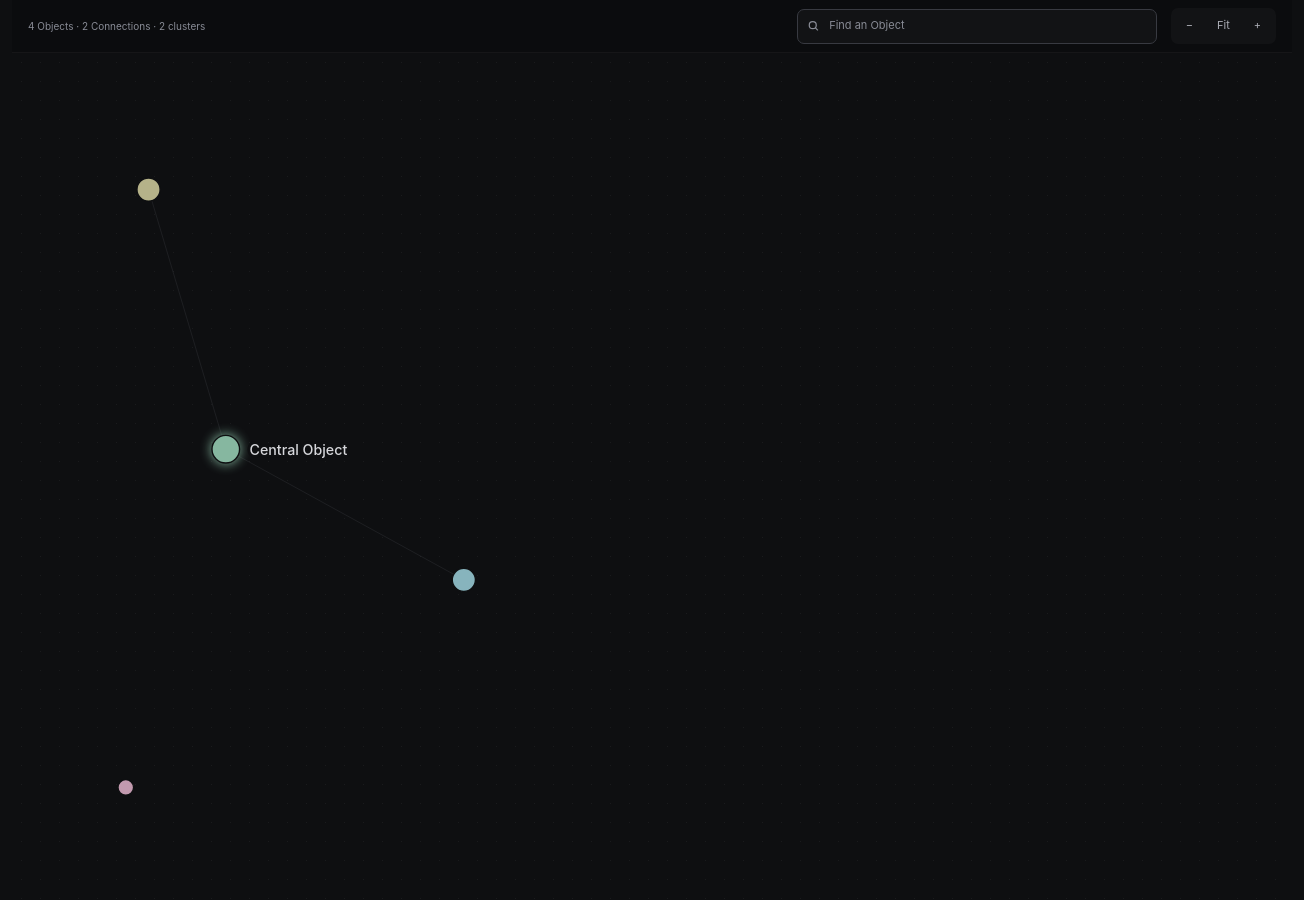
Test case: Connections graph workspace › loads one compact graph and focuses searched Objects
Type "Central" into the field named "Search graph Objects".
click(987, 26); type("Central")  # box left=827, top=17, right=1147, bottom=35
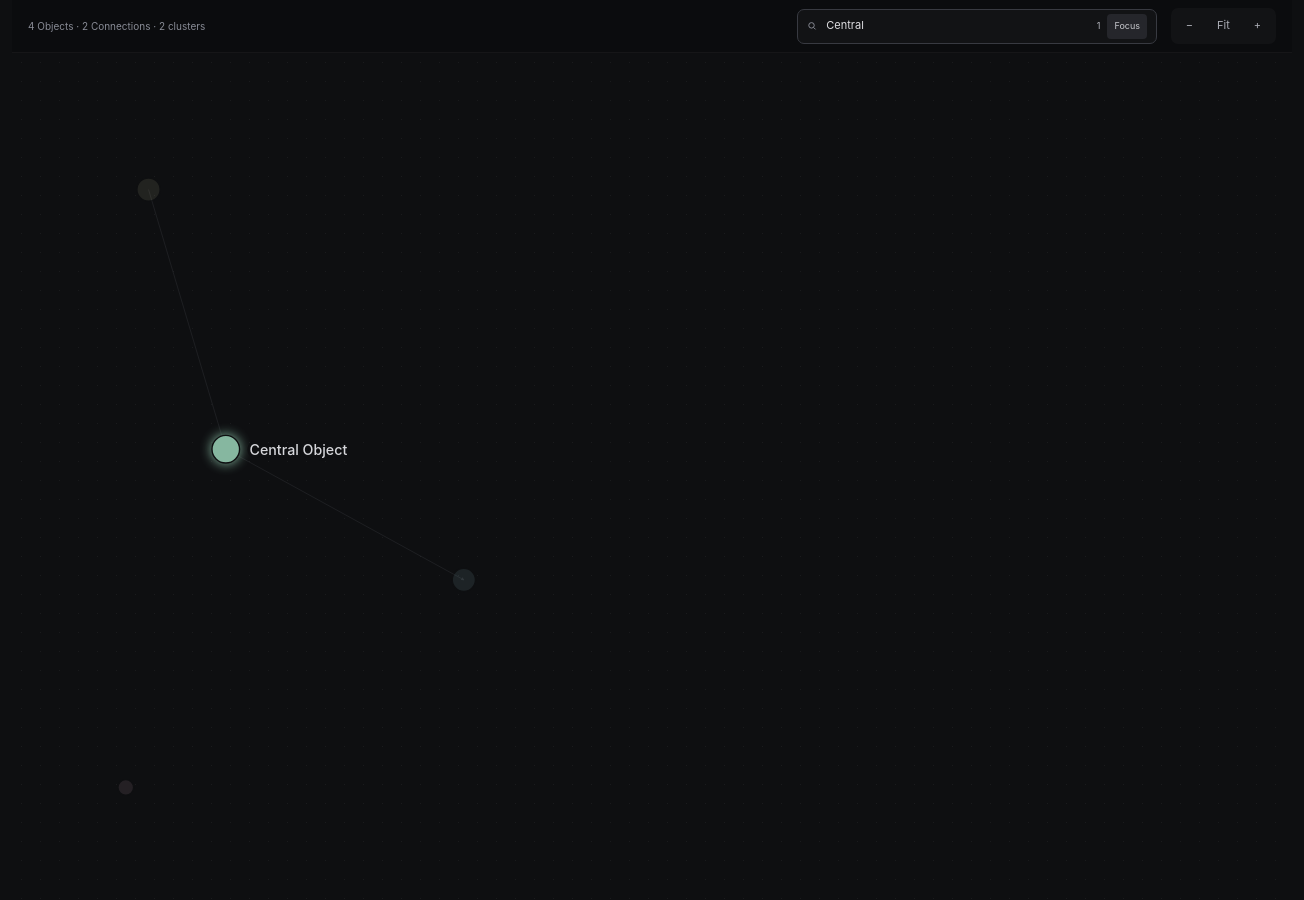
Click the button "Focus".
click(1127, 26)  # box left=1107, top=14, right=1147, bottom=38
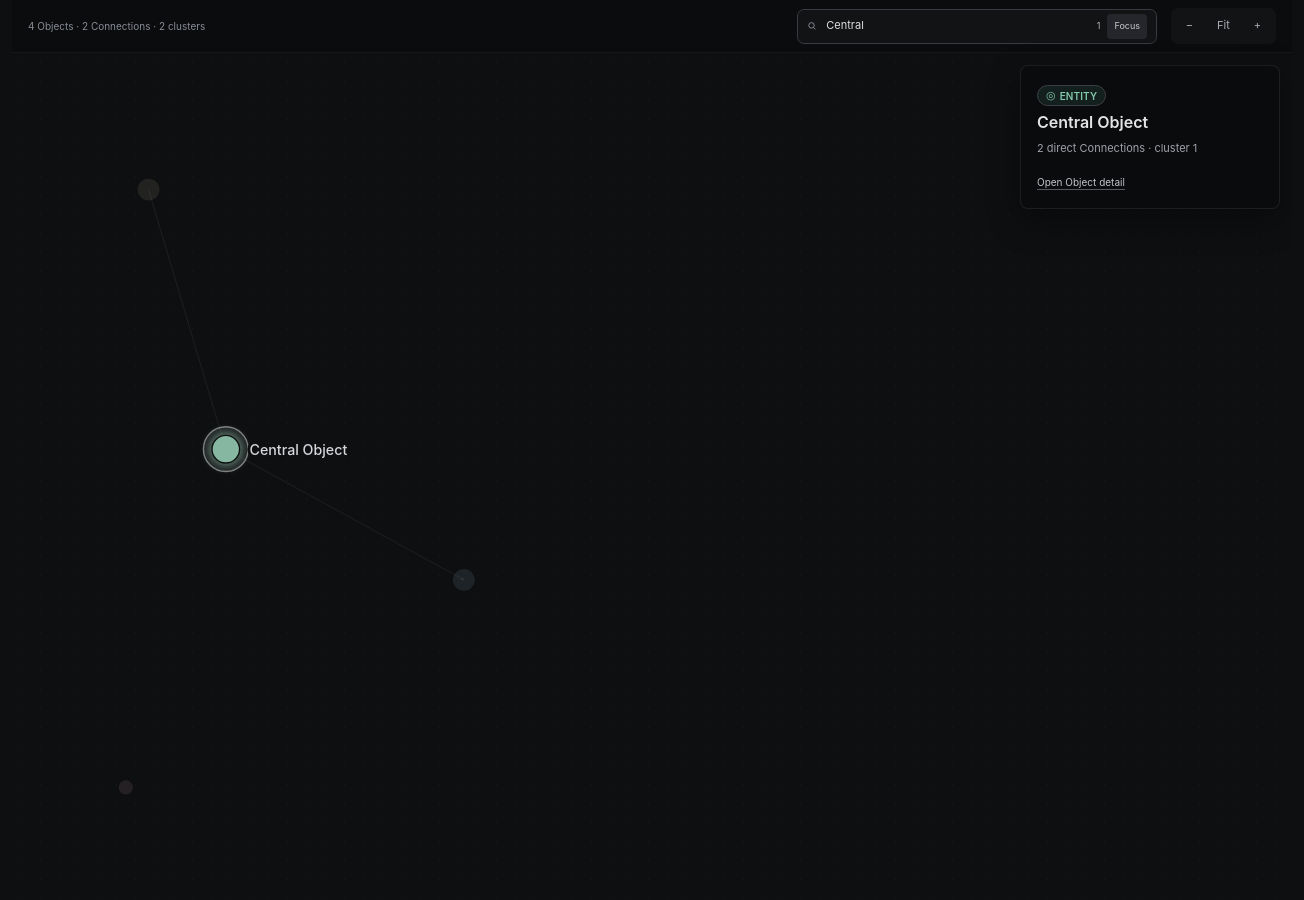
Result: the heading "Central Object" is shown at left=1037, top=112, right=1148, bottom=132
Result: the text "2 direct Connections · cluster 1" is shown at left=1037, top=141, right=1197, bottom=155
